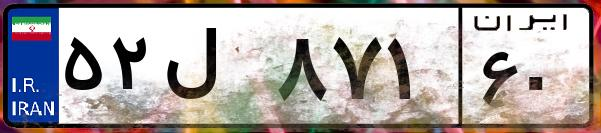0: (525, 38, 570, 115)
1: (385, 28, 445, 110)
2: (110, 28, 158, 98)
5: (57, 26, 110, 100)
6: (475, 38, 525, 113)
7: (330, 28, 385, 110)
8: (270, 28, 330, 110)
ل: (158, 20, 270, 120)
